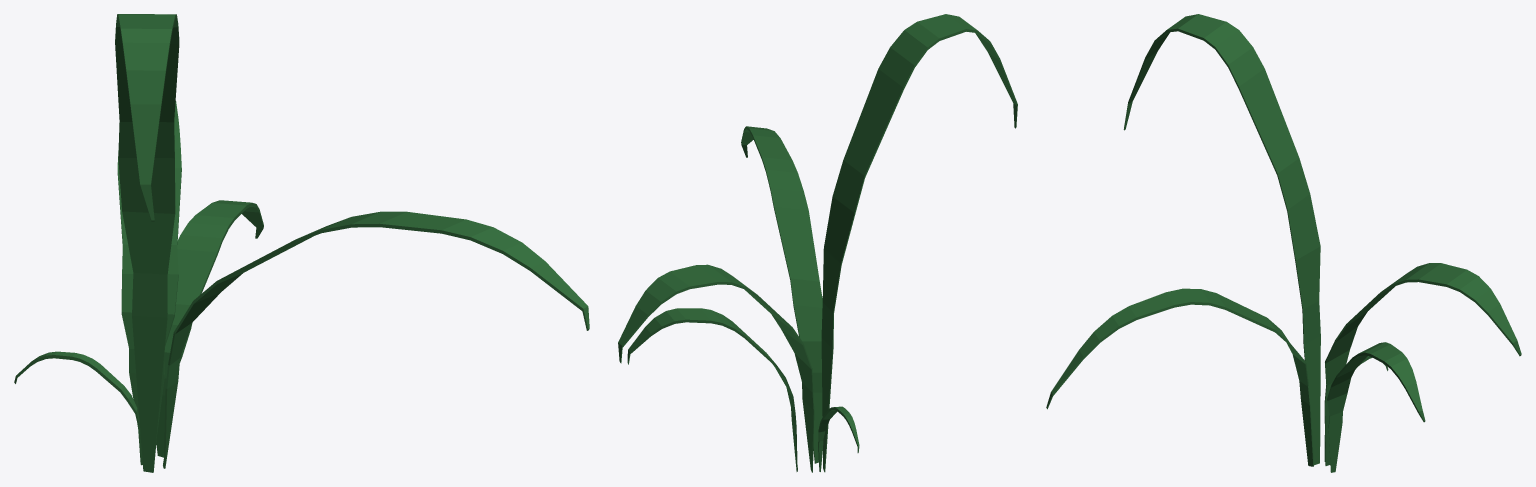
Rendered from plantetombante2.fbx.
3 views of the same model, side by side, from view 1: azimuth 30°, elevation 25°; view 2: azimuth 150°, elevation 25°; view 3: azimuth 270°, elevation 25° (orthographic). The views are drawn at different scales.
Parts seen in each view (by area): view 1: plante tombante 2; view 2: plante tombante 2; view 3: plante tombante 2.
Part boxes in pixels (x1,y1,x2,y2): plante tombante 2: (14,14,589,472); plante tombante 2: (618,14,1017,472); plante tombante 2: (1046,14,1521,472).
Size of the model in its own units: 31.8 by 41.91 by 40.
